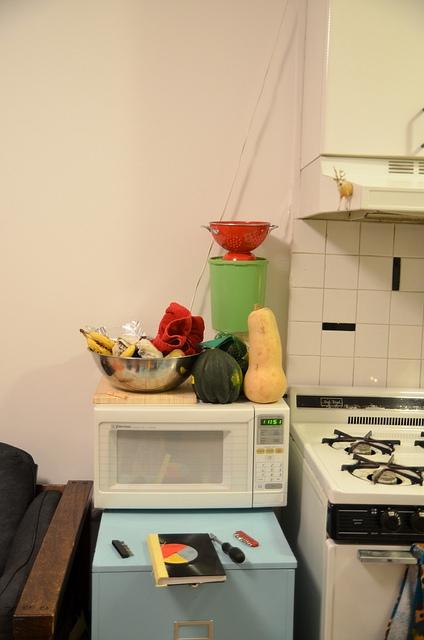banana: (80, 329, 115, 352), (81, 332, 112, 355), (119, 341, 139, 357)
